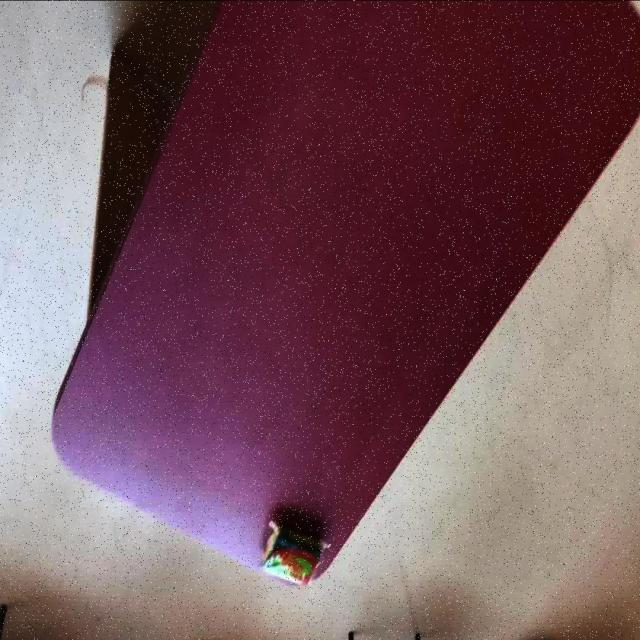Sponge: (49, 0, 640, 585), (259, 516, 330, 584)
